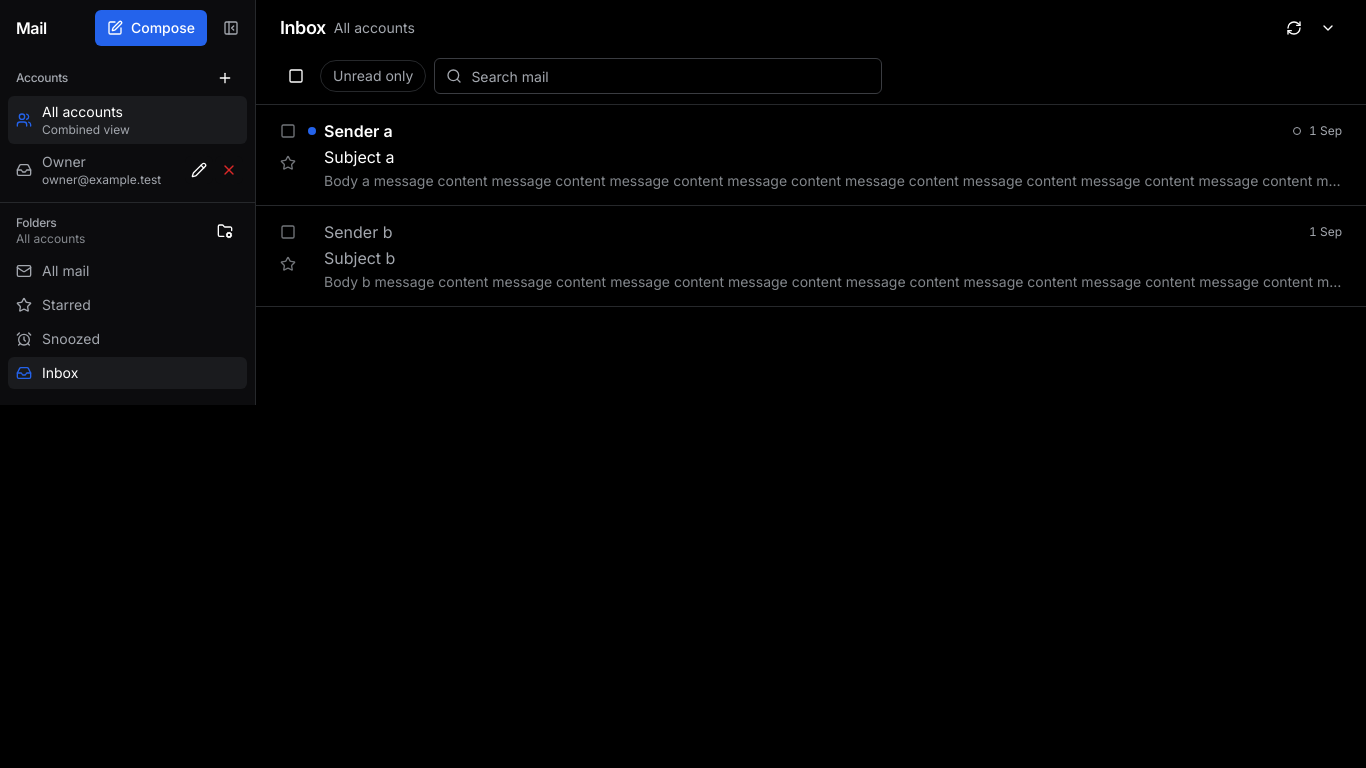
mail flag interactions with slow HTTP and provider writebacks › does not auto-read an accepted pending unread intent
Click the text "Subject a" at [359, 157], box [324,147,395,167]
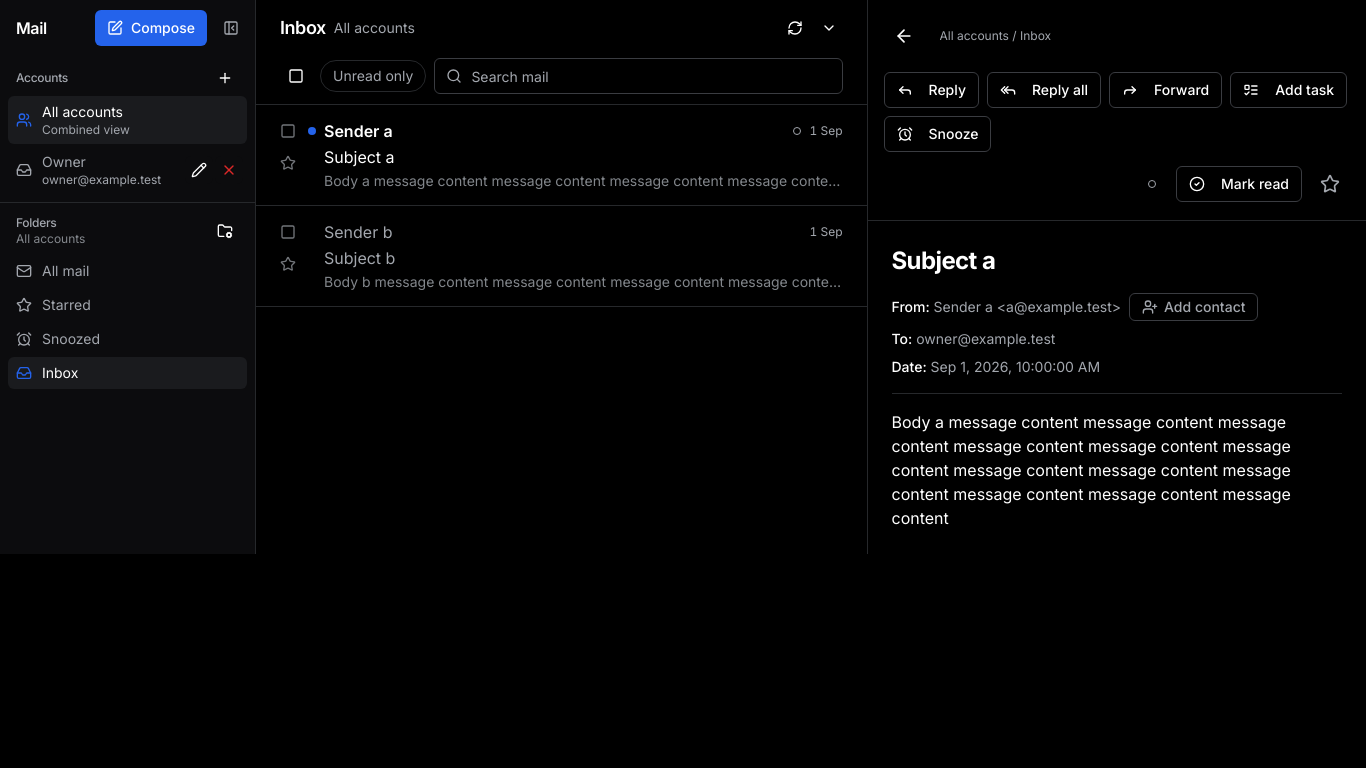
Expected: the button "Mark read" is enabled, [1176,166,1302,202]
